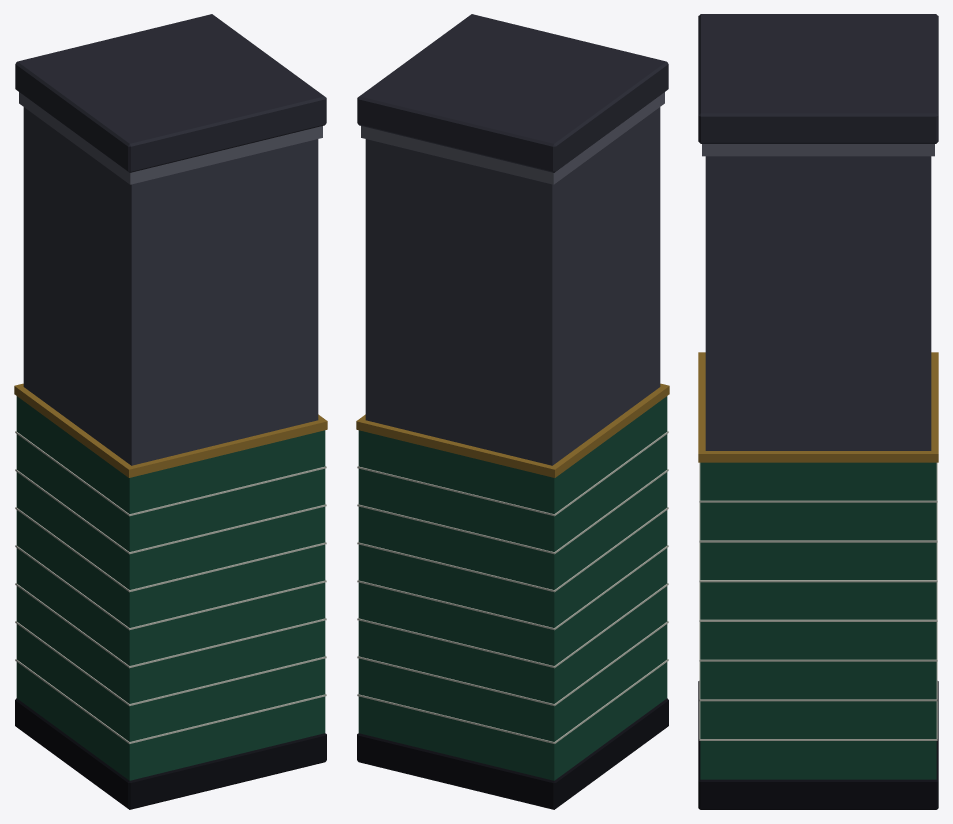
The model's file is wall_tile.glb.
3 renders of one model, left to right at view 1: azimuth 30°, elevation 25°; view 2: azimuth 150°, elevation 25°; view 3: azimuth 270°, elevation 25°, orthographic. The views are drawn at different scales.
Parts seen in each view (by area): view 1: wall_tile; view 2: wall_tile; view 3: wall_tile.
Boxes of the visible parts, box(x1,y1,x2,y2) form: wall_tile: box(14, 14, 327, 809); wall_tile: box(356, 14, 669, 809); wall_tile: box(698, 14, 938, 809).
Bounding box in the file's own units: 1 × 3.2 × 1.
